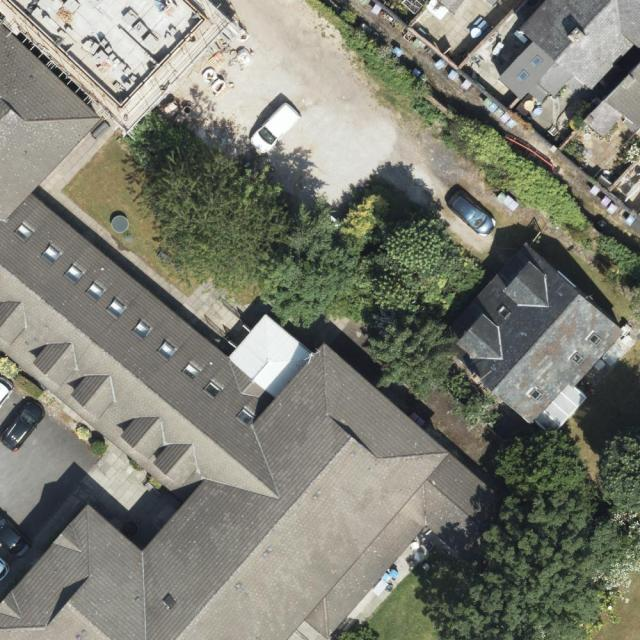roof: (0, 23, 514, 640), (439, 242, 623, 439), (4, 0, 203, 106), (500, 0, 640, 139)
skylight: (104, 298, 129, 322), (154, 339, 180, 362), (83, 281, 105, 305), (178, 360, 202, 381), (63, 263, 84, 287), (40, 244, 63, 265), (13, 223, 37, 243), (203, 378, 224, 400), (130, 319, 152, 340), (234, 408, 256, 428), (568, 350, 585, 366), (588, 331, 603, 348), (498, 304, 513, 319), (516, 70, 530, 84), (531, 388, 542, 403), (530, 55, 542, 68)
